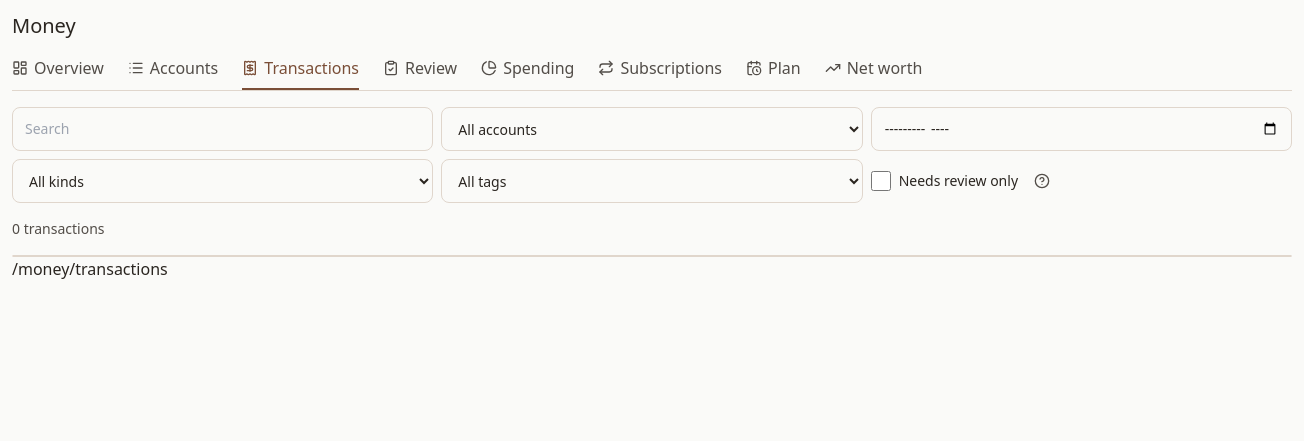
Test: routes the Phase 2 tabs and a transaction by URL
Expected: the text "0 transactions" is shown, [12,219,104,238]
Click the tab "Review".
click(420, 73)  # box [383,56,457,90]
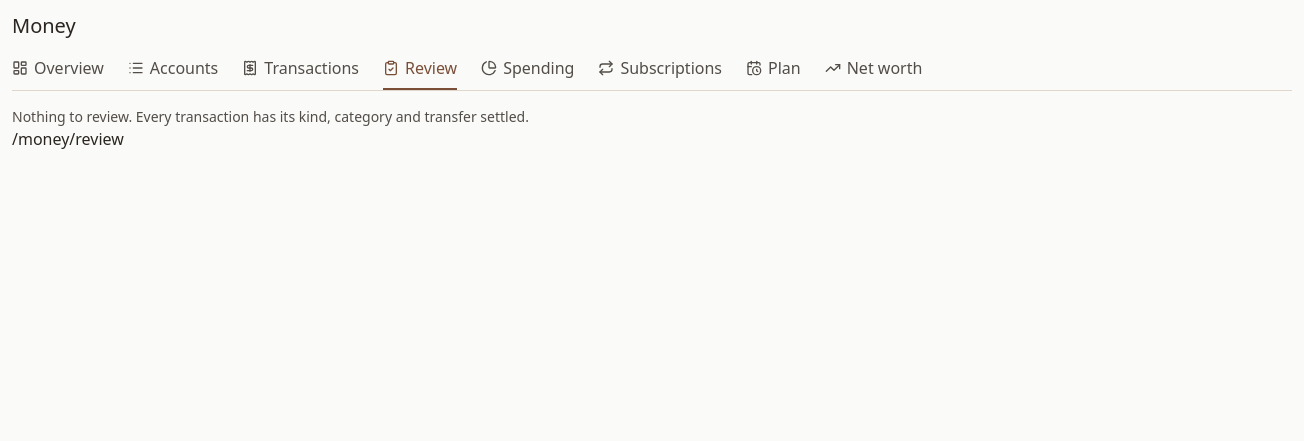
Expected: the text with test id "where" reads "/money/review", [12,128,124,150]
Expected: the text "Nothing to review" is shown, [12,107,529,126]
Click the tab "Spending".
click(528, 73)  # box [481,56,574,90]
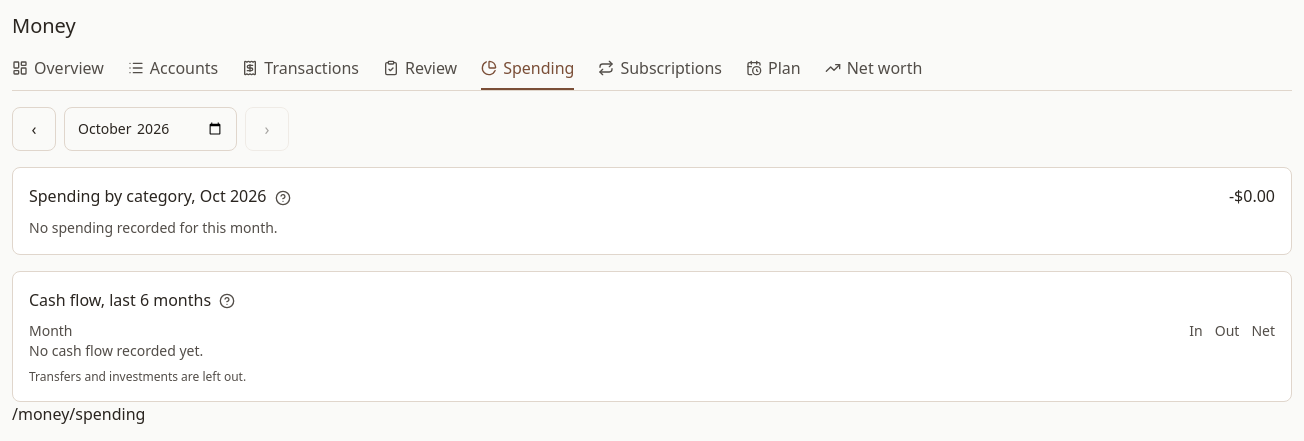
Expected: the text "No spending recorded for this month." is shown, [29,218,278,237]
